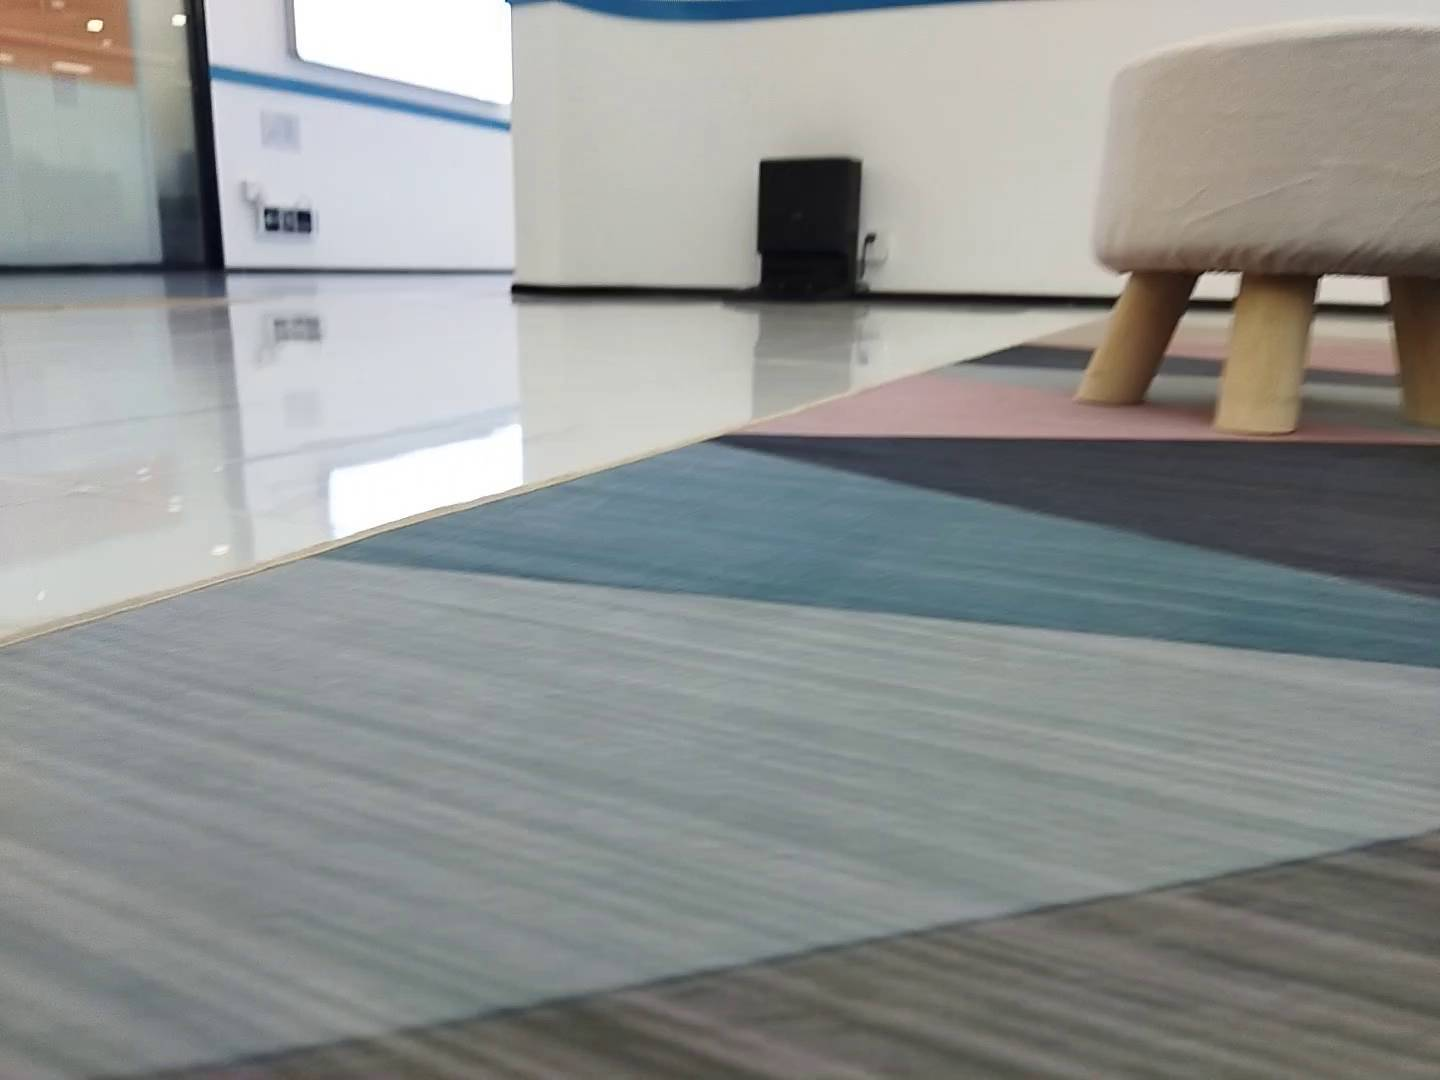dust collecting barrel: (729, 154, 871, 307)
